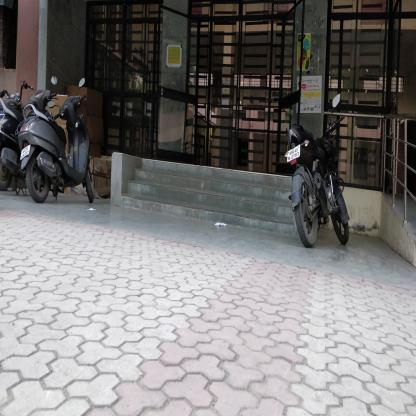stairs: (139, 175, 267, 242)
